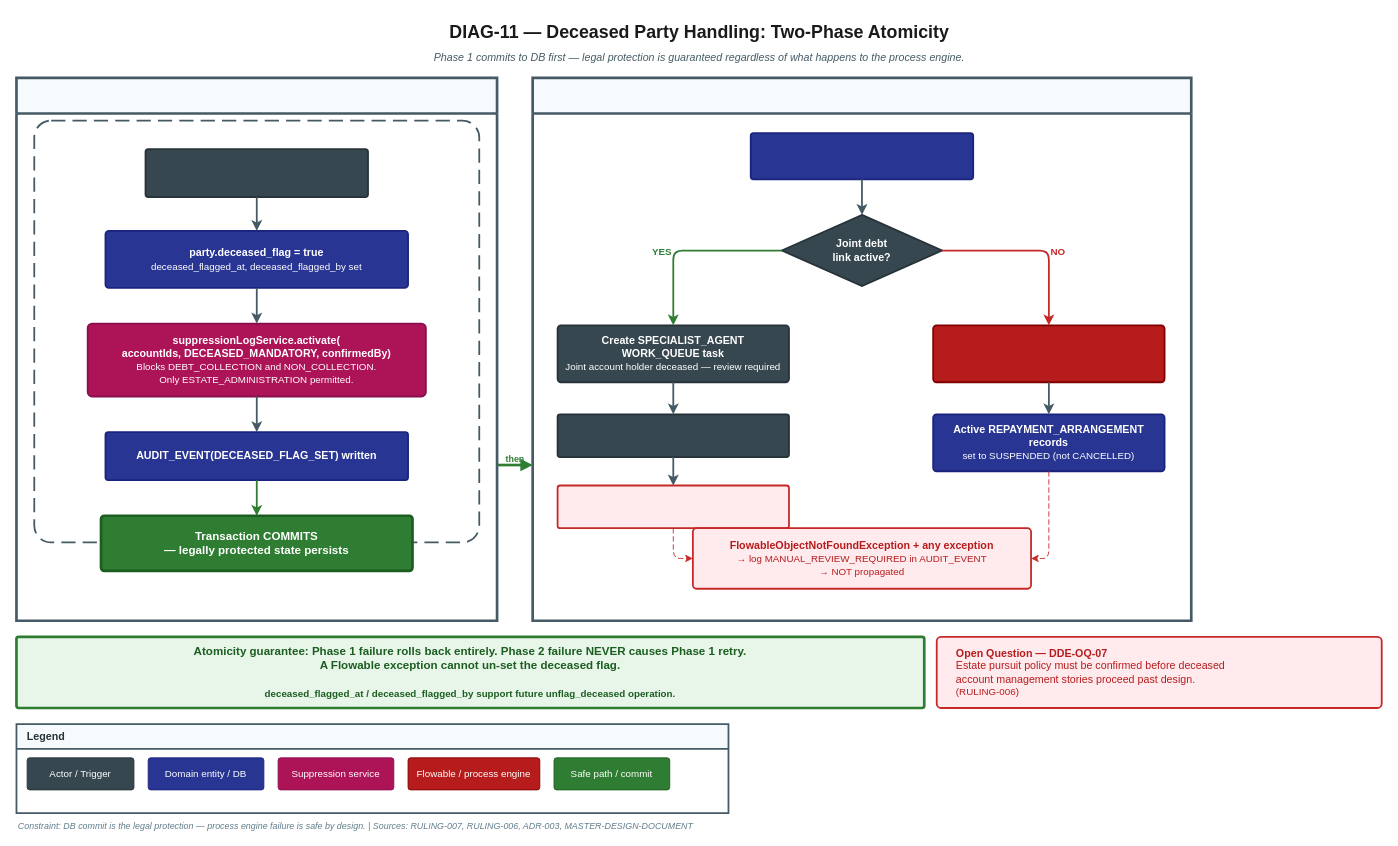
Some shapes in this 1398 by 846 pixel diagram are drawn without their labels. Here are the shapes that lost their labels. From the top down, the box of each, then its label:
(144, 148, 368, 198): Agent confirms deceased
(749, 132, 974, 180): Iterate account IDs
(33, 119, 480, 543): @Transactional boundary
(15, 76, 498, 622): Phase 1 — Transactional (@Transactional)
(531, 76, 1192, 622): Phase 2 — Non-Transactional
(932, 324, 1165, 383): runtimeService.suspendProcessInstanceById() for each active ProcessCaseLink
(556, 413, 789, 457): Add system case note
(556, 484, 789, 529): Do NOT suspend process instances
